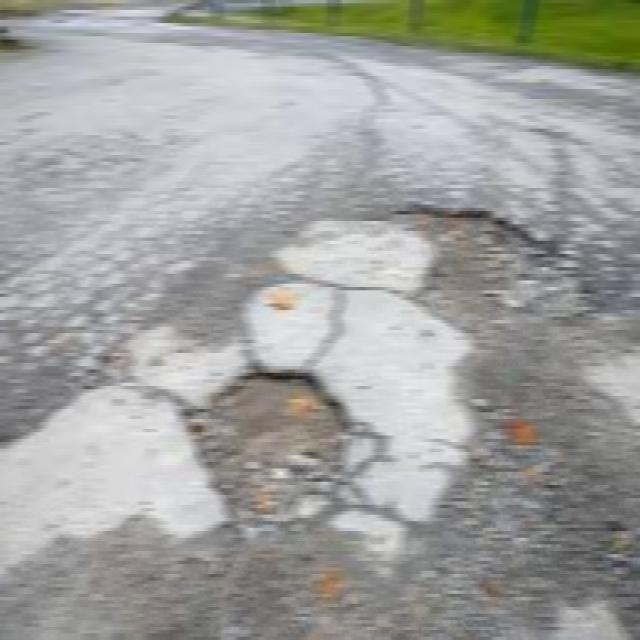Pothole: (189, 356, 360, 518), (375, 198, 599, 317)
